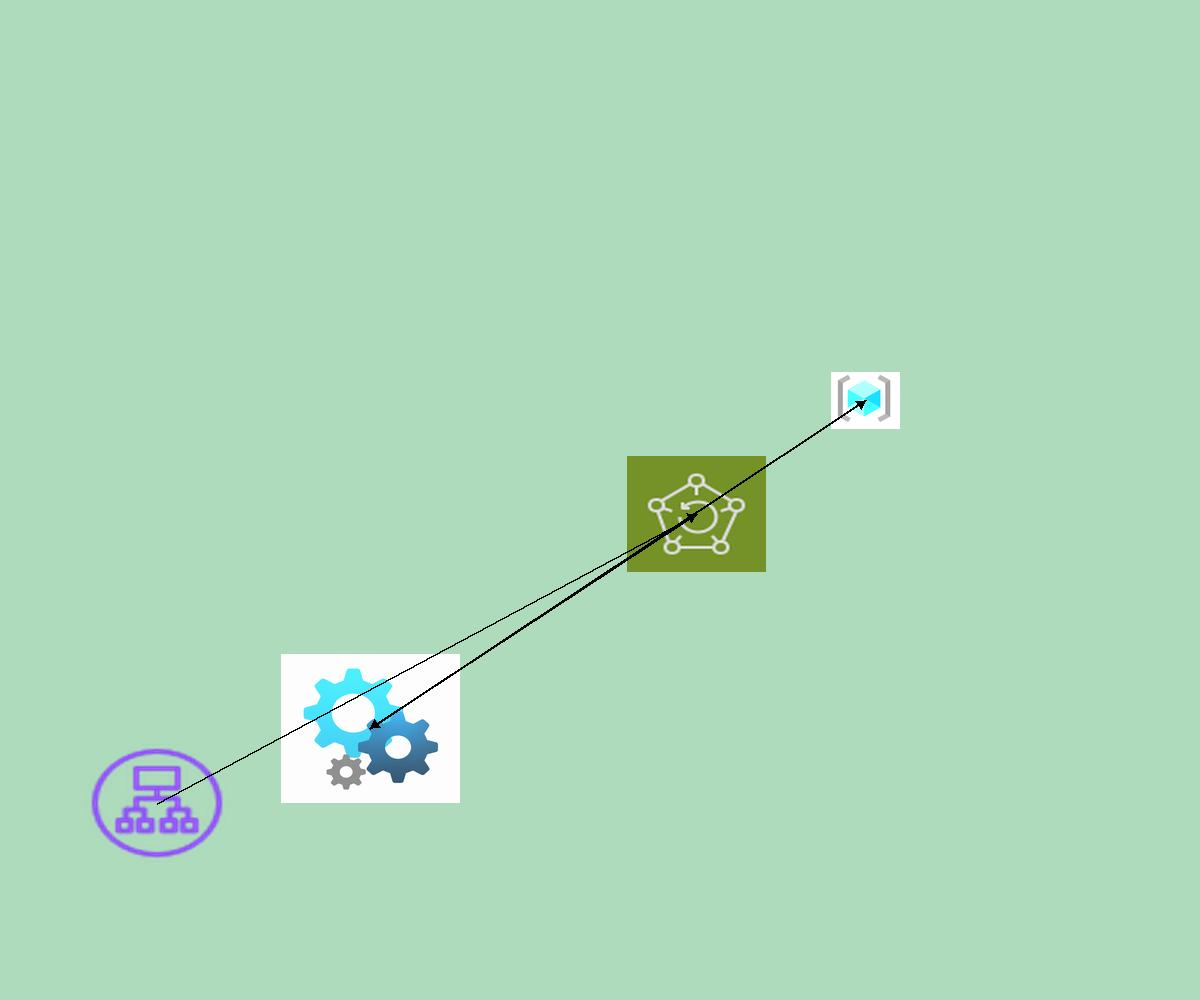AWS-Backup: (627, 456, 766, 572)
AWS-Res_Elastic-Load-Balancing_Application-Load-Balancer: (86, 744, 228, 862)
Azure_api: (281, 654, 460, 803)
Azure_resource_group: (831, 372, 900, 429)
